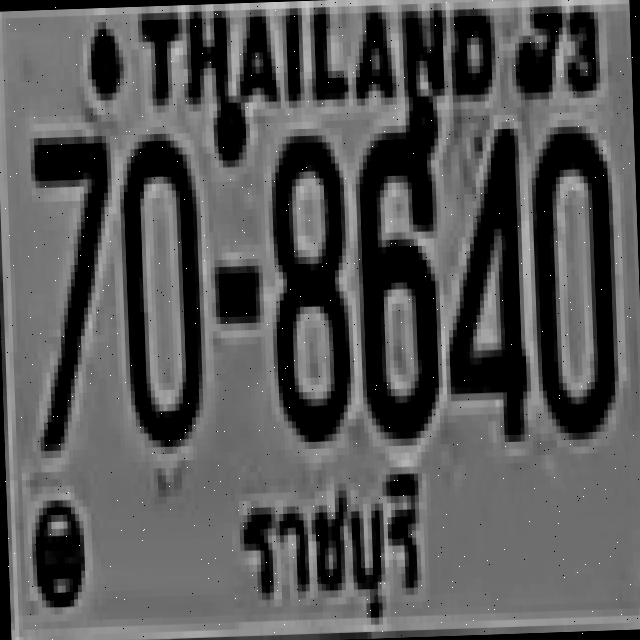0: (527, 118, 618, 434), (117, 126, 200, 440)
4: (437, 121, 524, 436)
6: (353, 116, 444, 432)
7: (29, 128, 116, 444)
8: (265, 127, 348, 436)
Ratchaburi: (234, 463, 426, 634)
